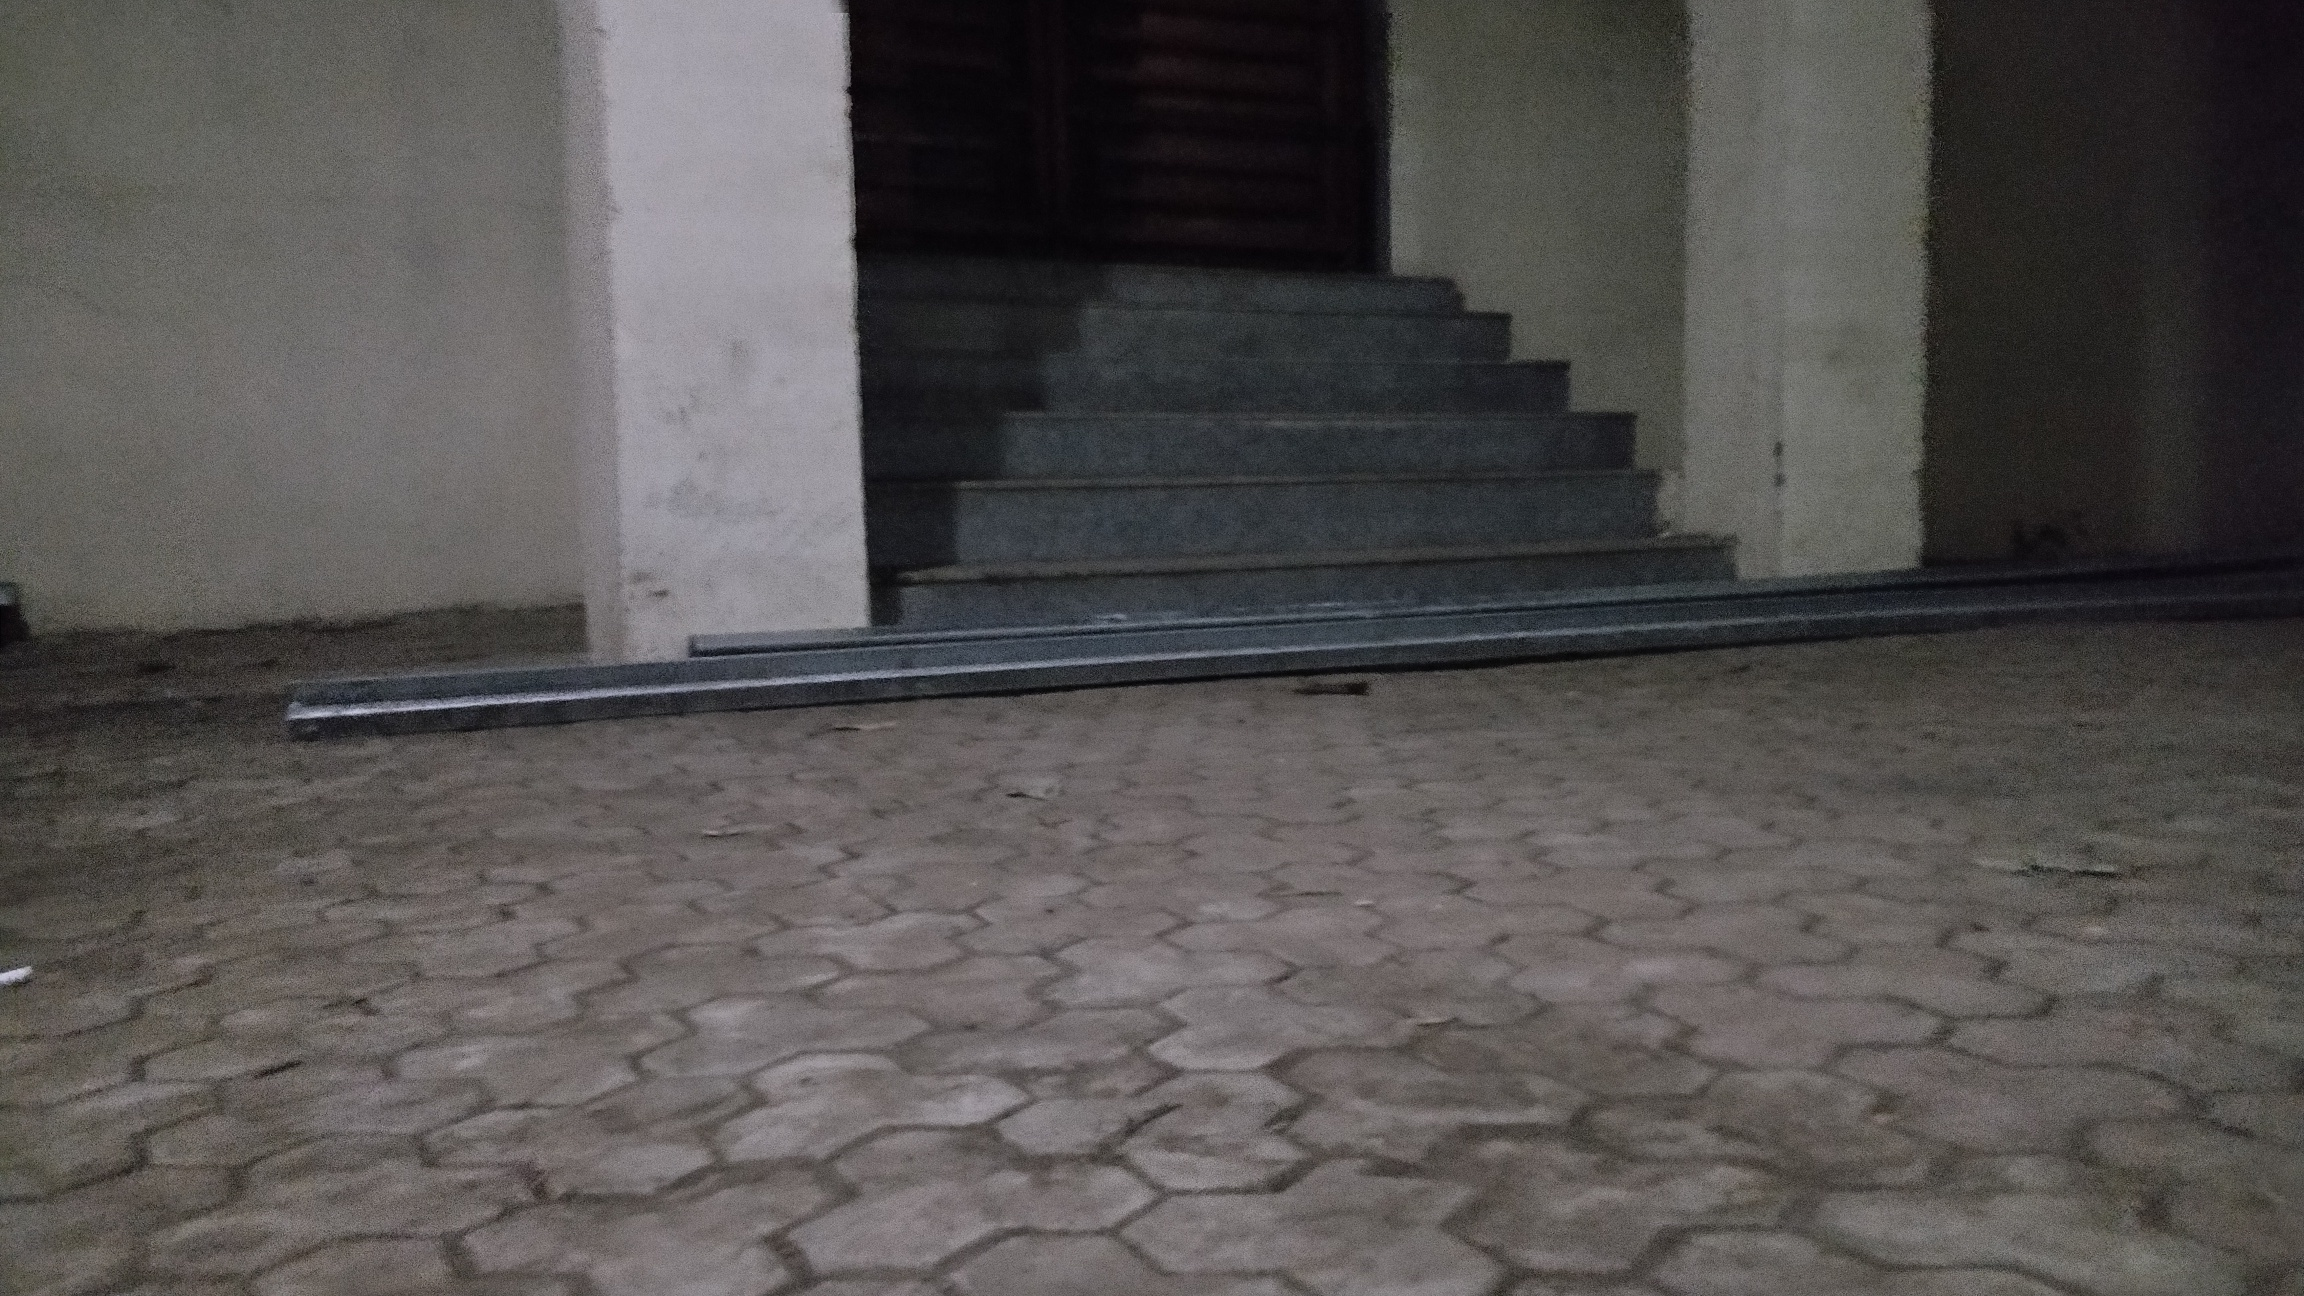stairs_up: (772, 236, 1794, 706)
